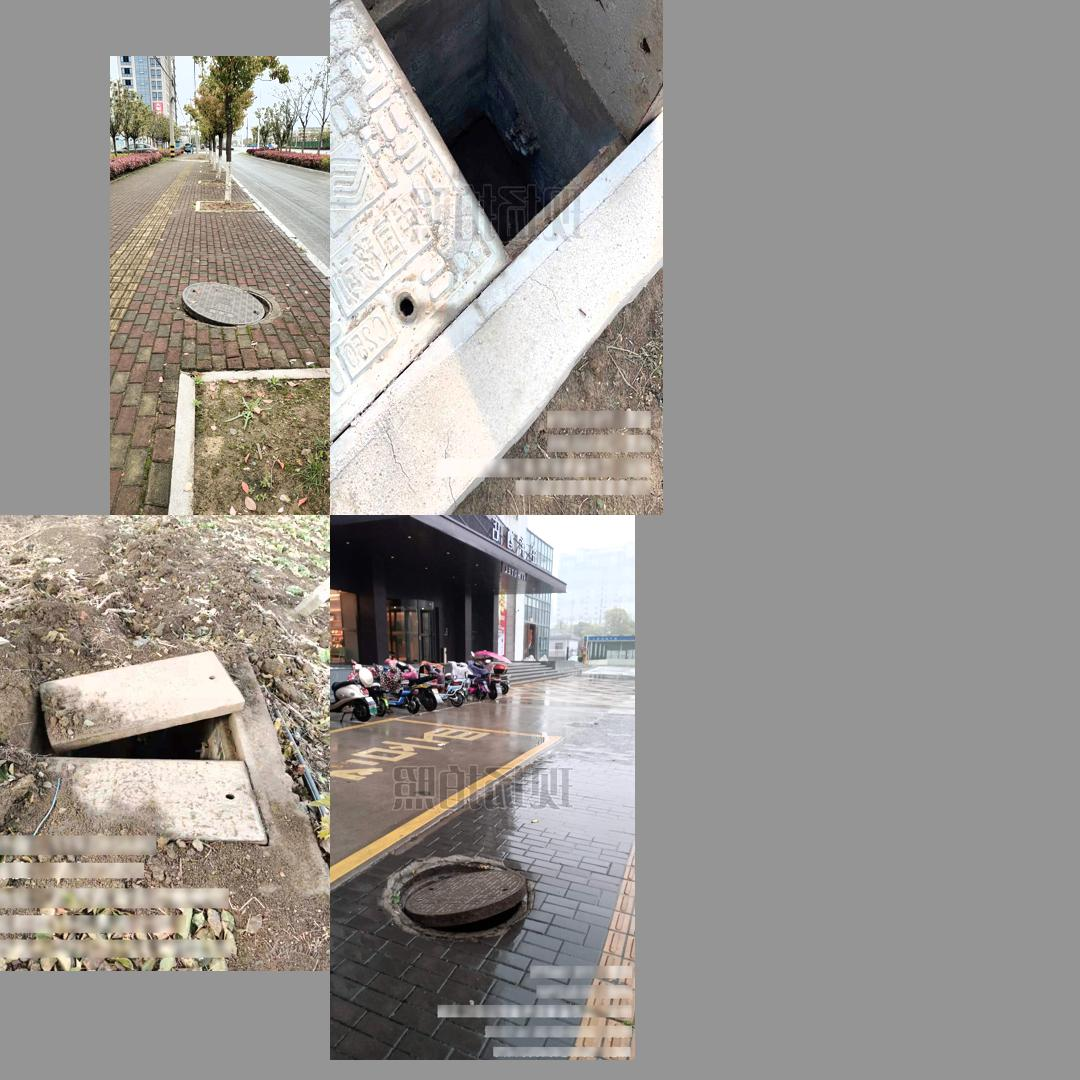uncovered: (330, 0, 661, 485), (0, 642, 330, 905), (387, 853, 533, 937), (179, 282, 281, 328)
